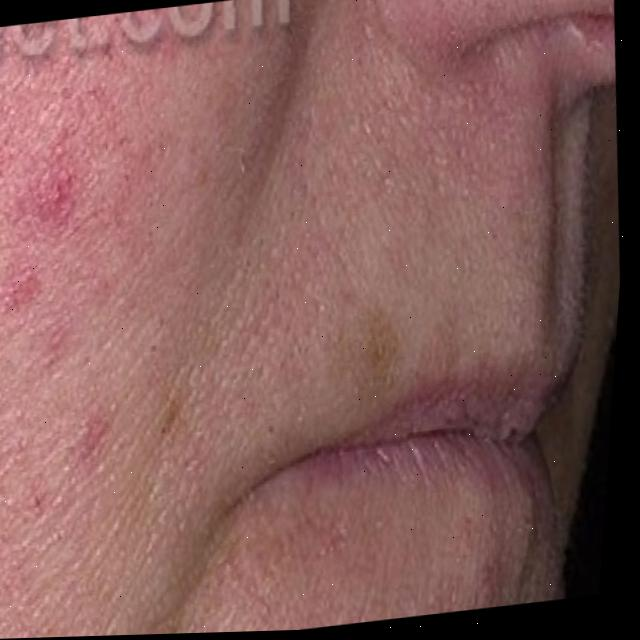Rosacea: (0, 97, 137, 321)
